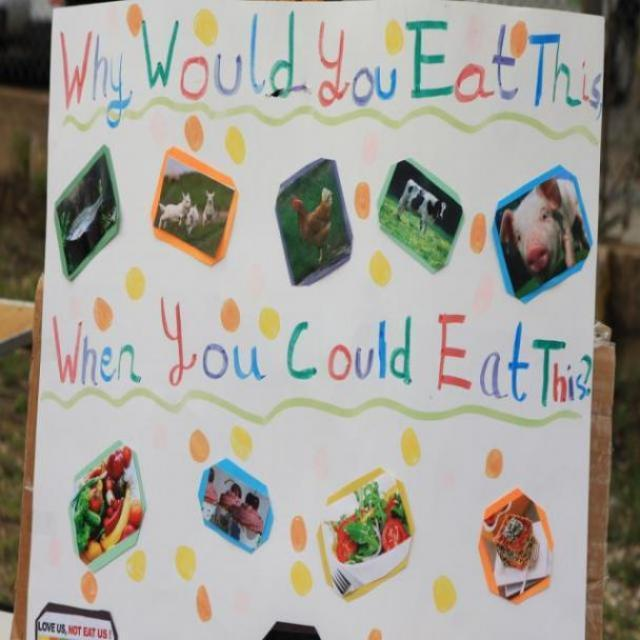Chicken: (285, 182, 341, 270)
